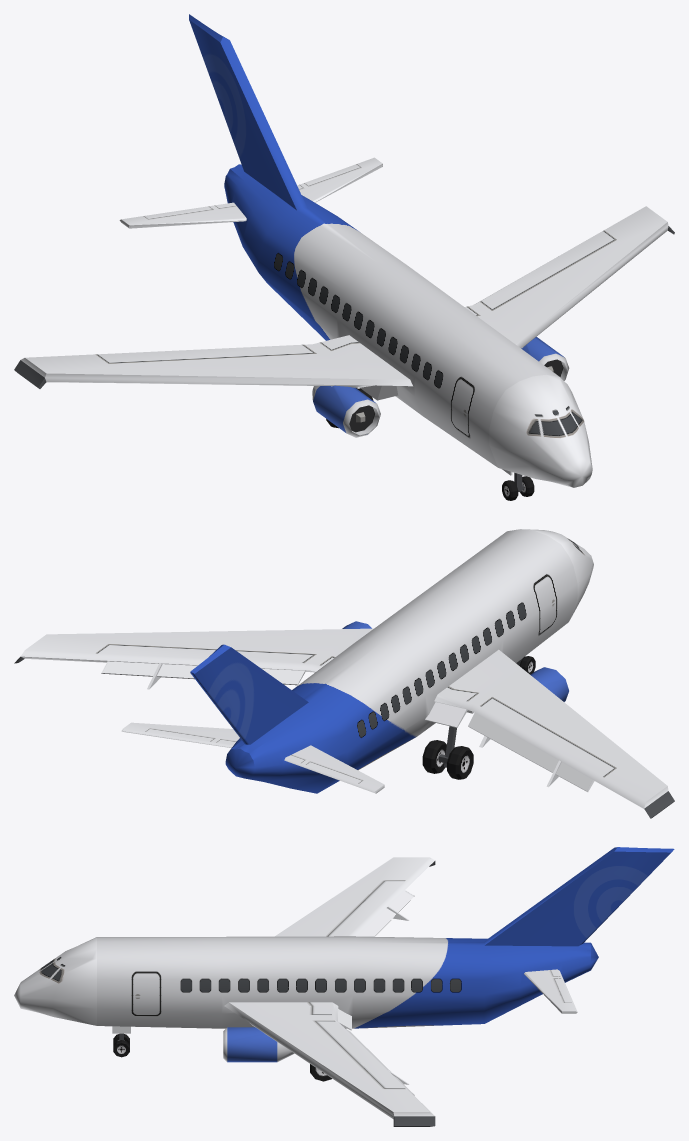
The model's file is air-oBEWt.glb.
3 views of the same model, one above another, from view 1: azimuth 30°, elevation 25°; view 2: azimuth 150°, elevation 25°; view 3: azimuth 270°, elevation 25° (orthographic). The views are drawn at different scales.
Parts seen in each view (by area): view 1: Object_2; view 2: Object_2, Object_3; view 3: Object_2, Object_3.
Boxes of the visible parts, x1,y1,x2,y2 form: Object_2: (14,14,674,491); Object_2: (14,529,674,818); Object_3: (422,656,535,779); Object_2: (14,847,674,1126); Object_3: (113,1034,331,1081).
Bounding box in the file's own units: 1567 × 581 × 1676.
Materials: 1 (1 with a texture image).
